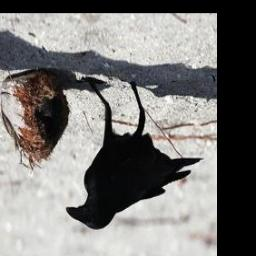Crow: (64, 75, 204, 231)
